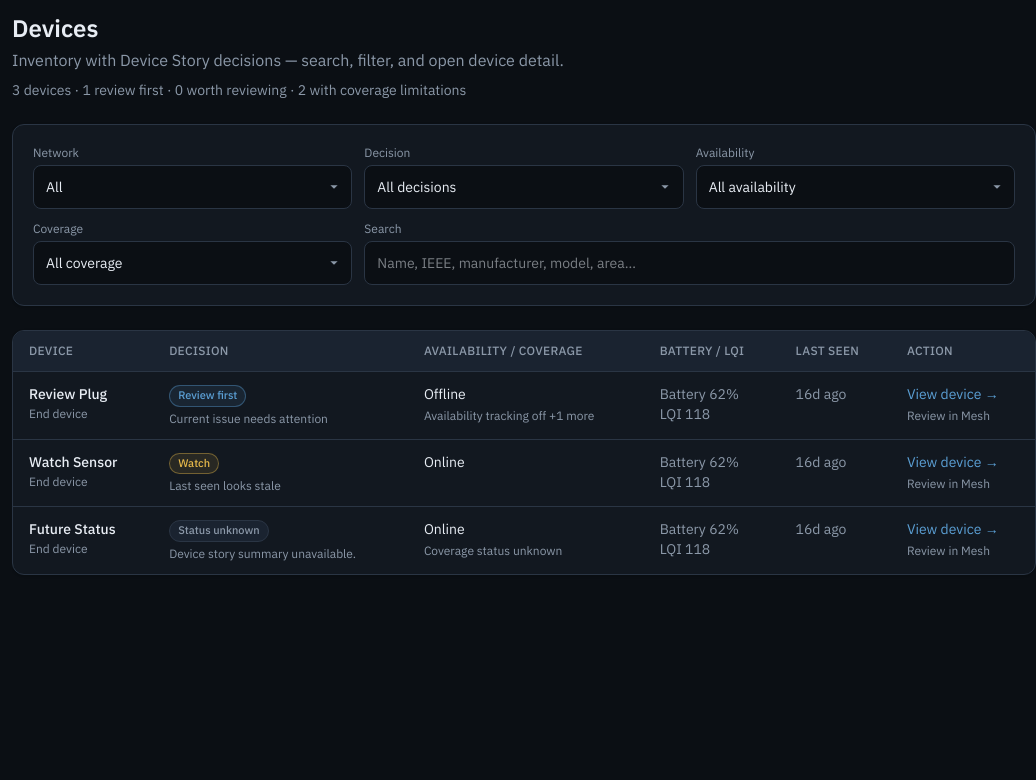
Scenario: DevicesPage decision inventory › searches name, IEEE, manufacturer/model, and explicit area
Type "Watch Sensor" into the search field with placeholder "Name, IEEE, manufacturer, model, area…".
click(690, 263); type("Watch Sensor")  # box [364,241,1015,285]
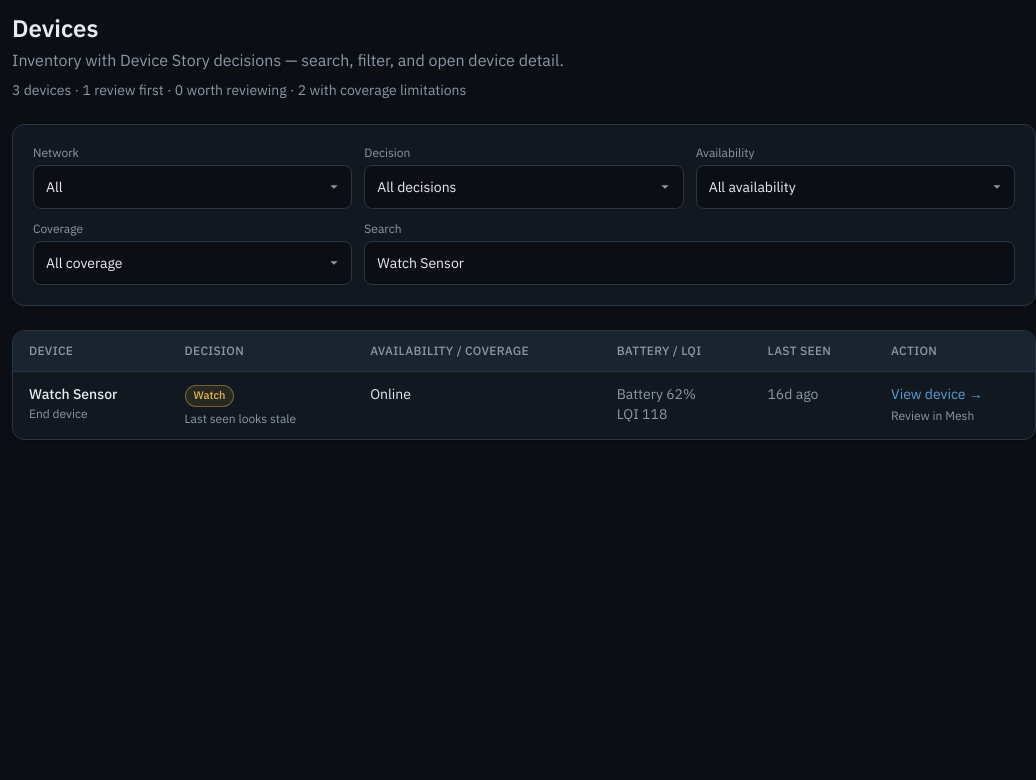
Check: the text "Watch Sensor" is shown, box [29,385,117,403]
Check: the text "Review Plug" is gone
